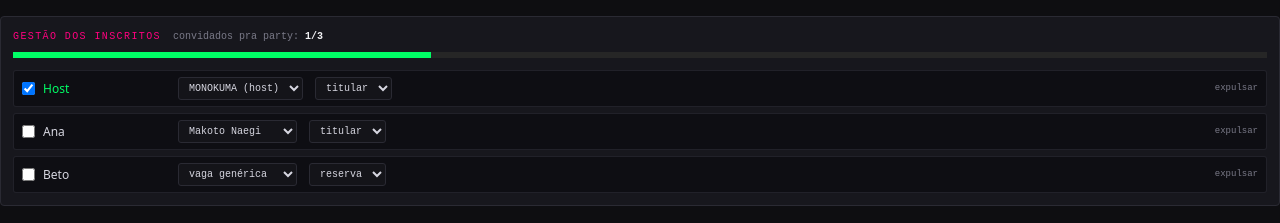
GestaoParticipantes › marcar "convidado" responde na hora e avisa o servidor
Click the checkbox named "Já convidei Ana pra party". click: (28, 132)
box: [22,125,35,138]
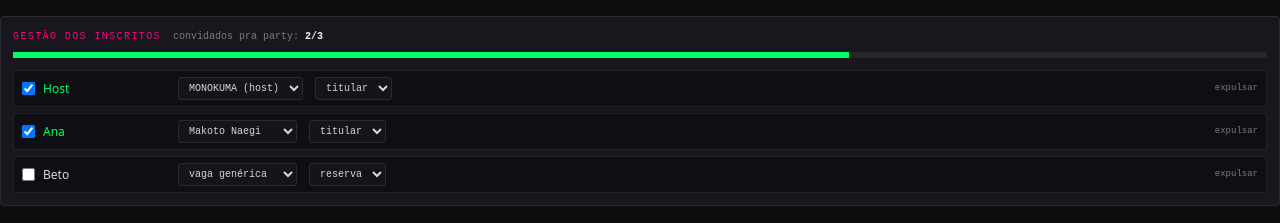
Now the text "2/3" is shown, box [305,31,323,42]
